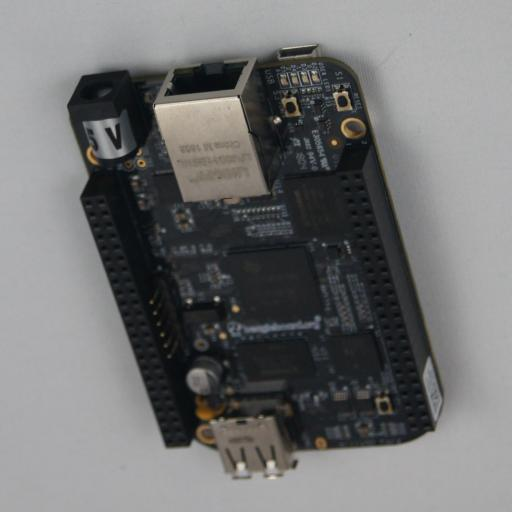Beaglebone Black: (67, 44, 444, 478)
